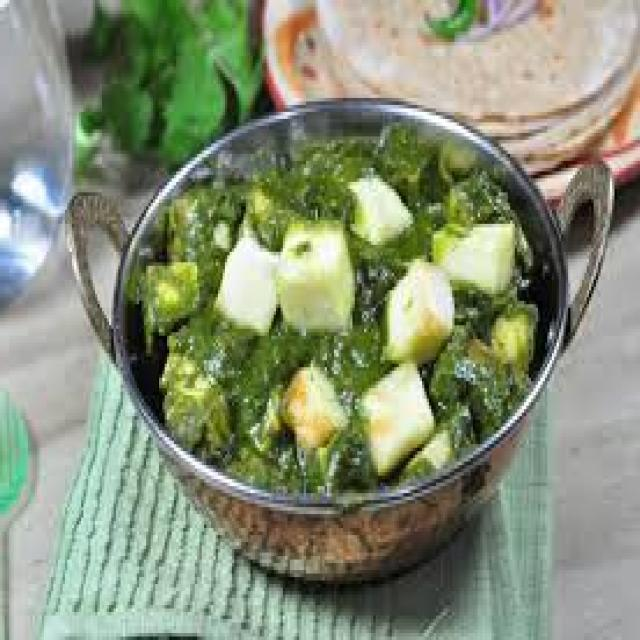Palak Paneer: (124, 122, 545, 493)
